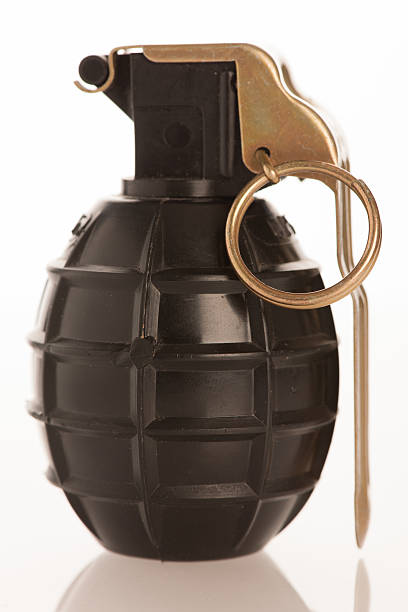e1: (22, 39, 370, 562)
